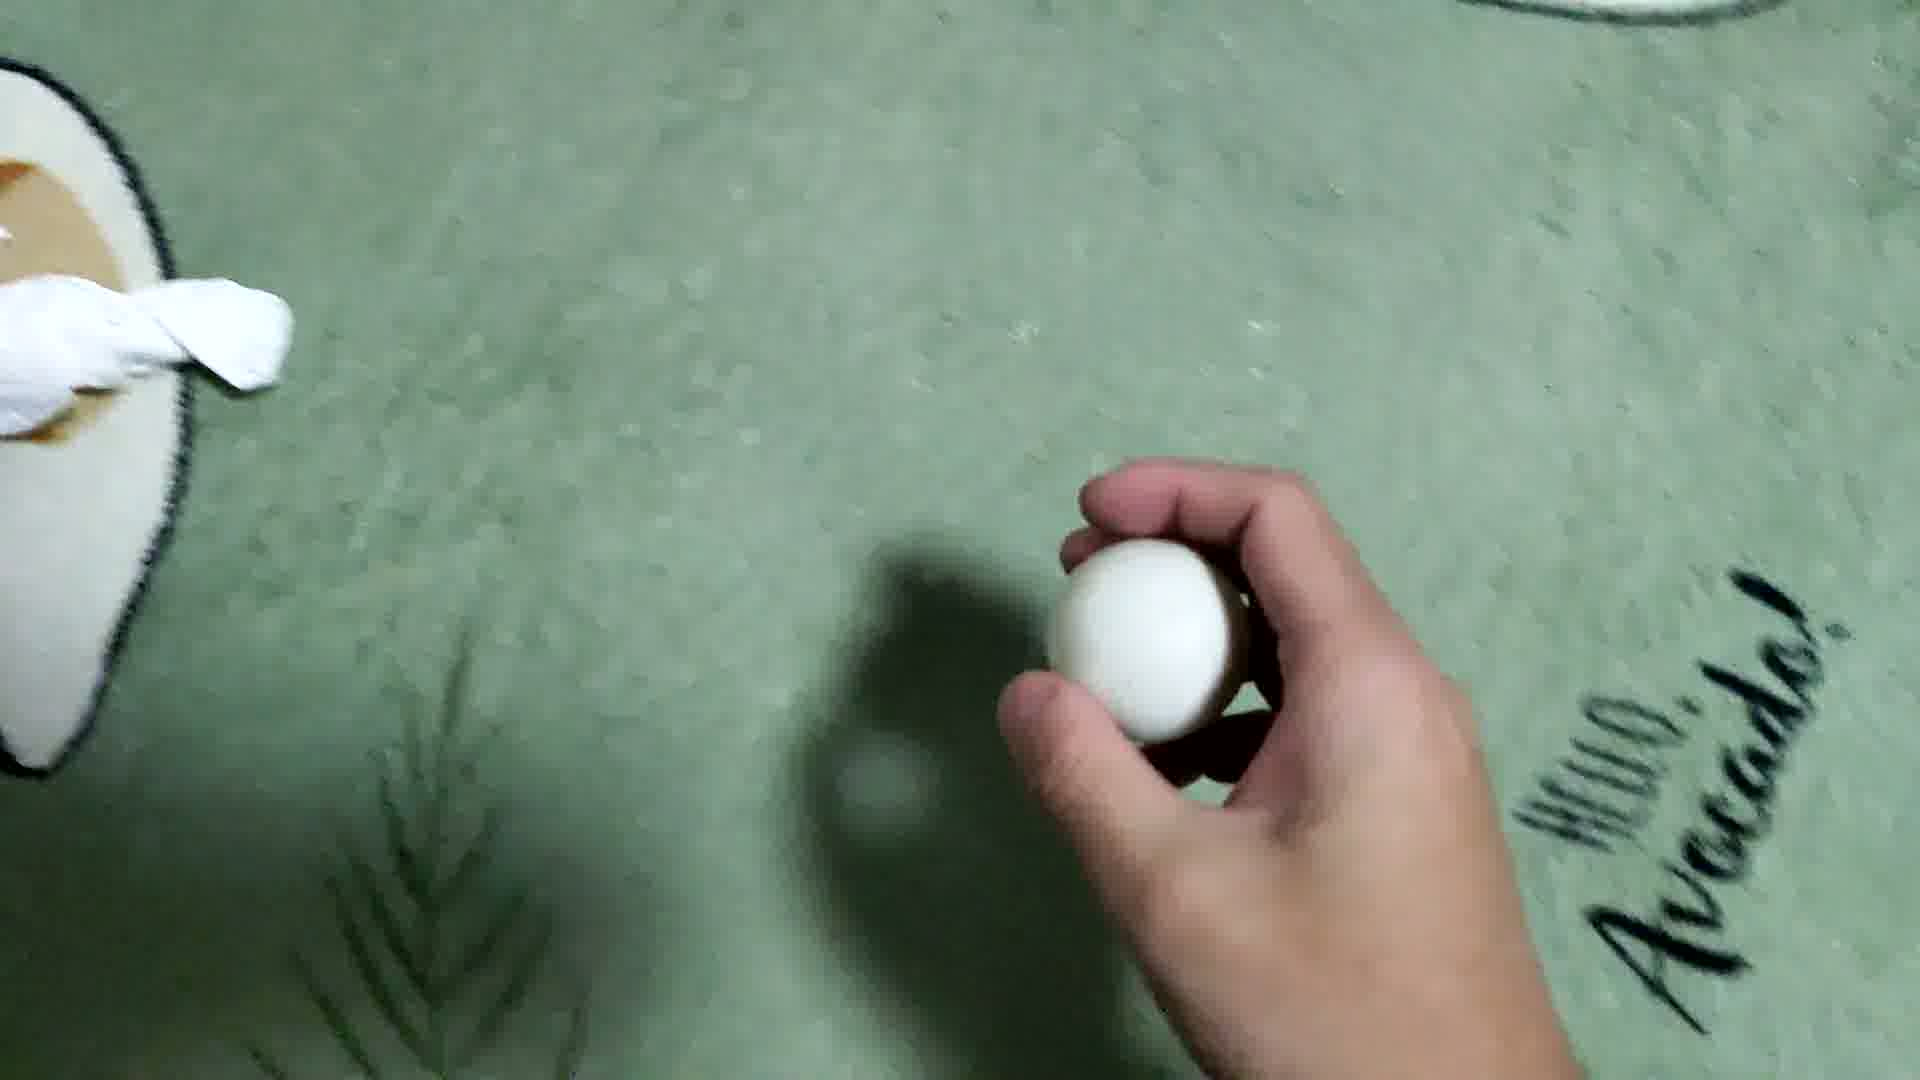Ball: (1043, 535, 1246, 740)
